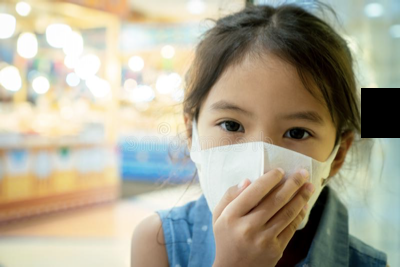with_mask: (191, 99, 334, 235)
